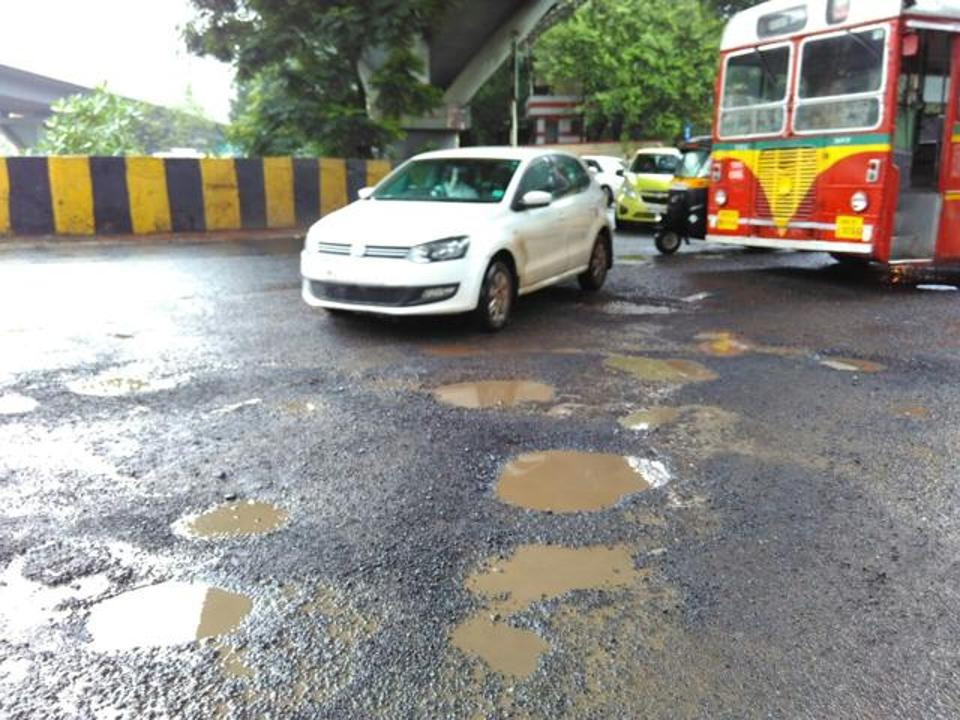pothole: (422, 527, 682, 713), (45, 560, 303, 668), (455, 431, 688, 517), (683, 311, 898, 393), (154, 480, 325, 552), (391, 365, 571, 426), (573, 338, 735, 398)
